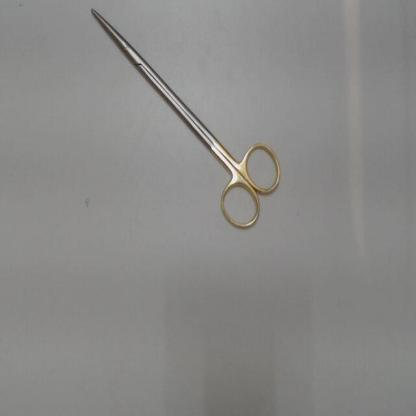7 Metzenbaum Scissors: (86, 1, 283, 235)
